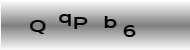6: (122, 23, 135, 38)
P: (73, 16, 87, 29)
Q: (29, 19, 47, 35)
b: (102, 14, 116, 28)
q: (58, 13, 71, 27)
